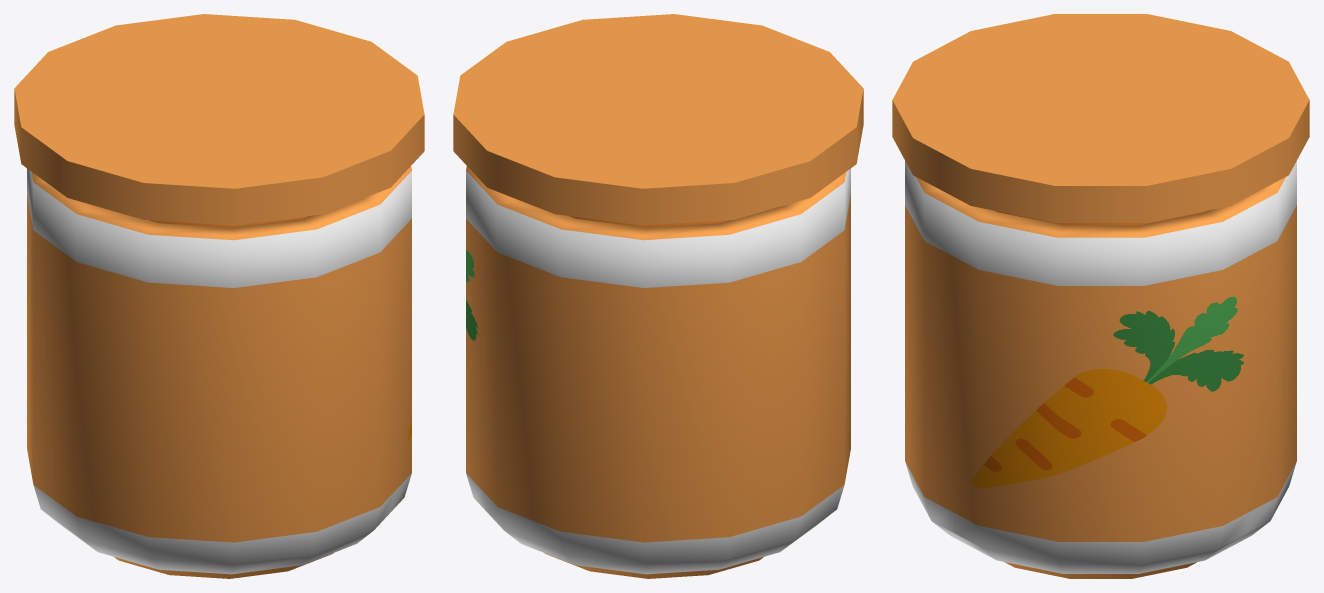
Rendered from ToplesWortel.fbx.
3 views of the same model, side by side, from view 1: azimuth 30°, elevation 25°; view 2: azimuth 150°, elevation 25°; view 3: azimuth 270°, elevation 25° (orthographic).
Visible parts, largest first — view 1: ToplesWortel.005; view 2: ToplesWortel.005; view 3: ToplesWortel.005.
Boxes of the visible parts, x1,y1,x2,y2 form: ToplesWortel.005: [14, 14, 424, 578]; ToplesWortel.005: [453, 14, 863, 578]; ToplesWortel.005: [892, 14, 1309, 578].
Size of the model in its own units: 41.53 by 47.55 by 42.6.
Materials: 3 (1 with a texture image).
